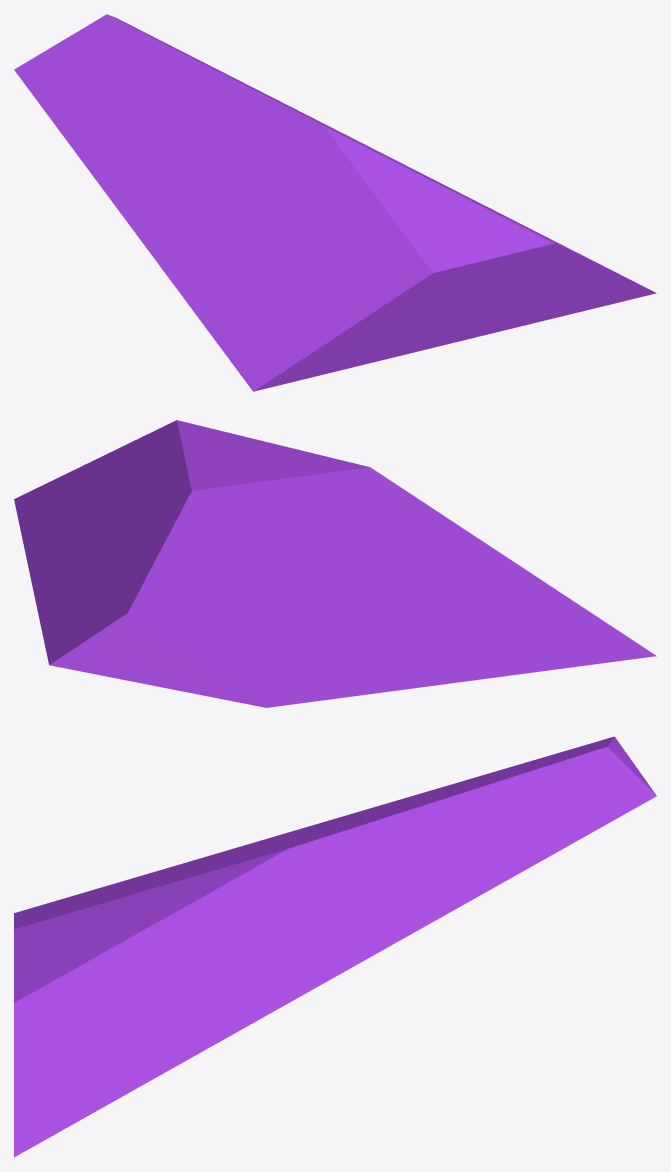
File: Window_157_1_chunks.fbx
3 renders of one model, top to bottom at view 1: azimuth 30°, elevation 25°; view 2: azimuth 150°, elevation 25°; view 3: azimuth 270°, elevation 25°, orthographic. The views are drawn at different scales.
Visible parts, largest first — view 1: Window_157_1_2, Window_157_1_6, Window_157_1_8, Window_157_1_9, Window_157_1_1, Window_157_1_4, Window_157_1_3, Window_157_1_5, Window_157_1_0; view 2: Window_157_1_6, Window_157_1_9, Window_157_1_2, Window_157_1_0, Window_157_1_8, Window_157_1_1, Window_157_1_3, Window_157_1_5, Window_157_1_4; view 3: Window_157_1_0, Window_157_1_3, Window_157_1_1, Window_157_1_4, Window_157_1_9, Window_157_1_6, Window_157_1_2, Window_157_1_8, Window_157_1_5.
Boxes of the visible parts, left/top/right/bottom form: Window_157_1_2: left=215, top=231, right=516, bottom=391; Window_157_1_6: left=17, top=73, right=231, bottom=340; Window_157_1_8: left=196, top=90, right=291, bottom=312; Window_157_1_9: left=14, top=14, right=235, bottom=114; Window_157_1_1: left=285, top=118, right=464, bottom=219; Window_157_1_4: left=369, top=183, right=560, bottom=272; Window_157_1_3: left=418, top=173, right=656, bottom=328; Window_157_1_5: left=227, top=208, right=369, bottom=319; Window_157_1_0: left=113, top=16, right=476, bottom=201; Window_157_1_6: left=242, top=585, right=594, bottom=707; Window_157_1_9: left=83, top=544, right=270, bottom=707; Window_157_1_2: left=290, top=447, right=656, bottom=664; Window_157_1_0: left=25, top=499, right=216, bottom=671; Window_157_1_8: left=182, top=522, right=541, bottom=640; Window_157_1_1: left=130, top=447, right=341, bottom=550; Window_157_1_3: left=14, top=425, right=165, bottom=553; Window_157_1_5: left=314, top=493, right=554, bottom=645; Window_157_1_4: left=146, top=420, right=336, bottom=499; Window_157_1_0: left=226, top=769, right=656, bottom=1037; Window_157_1_3: left=14, top=939, right=227, bottom=1157; Window_157_1_1: left=113, top=838, right=316, bottom=943; Window_157_1_4: left=14, top=892, right=192, bottom=1012; Window_157_1_9: left=406, top=736, right=649, bottom=810; Window_157_1_6: left=110, top=739, right=603, bottom=884; Window_157_1_2: left=14, top=882, right=124, bottom=959; Window_157_1_8: left=133, top=806, right=407, bottom=880; Window_157_1_5: left=120, top=866, right=209, bottom=896.
Bounding box in the file's own units: 567 × 241 × 631.
